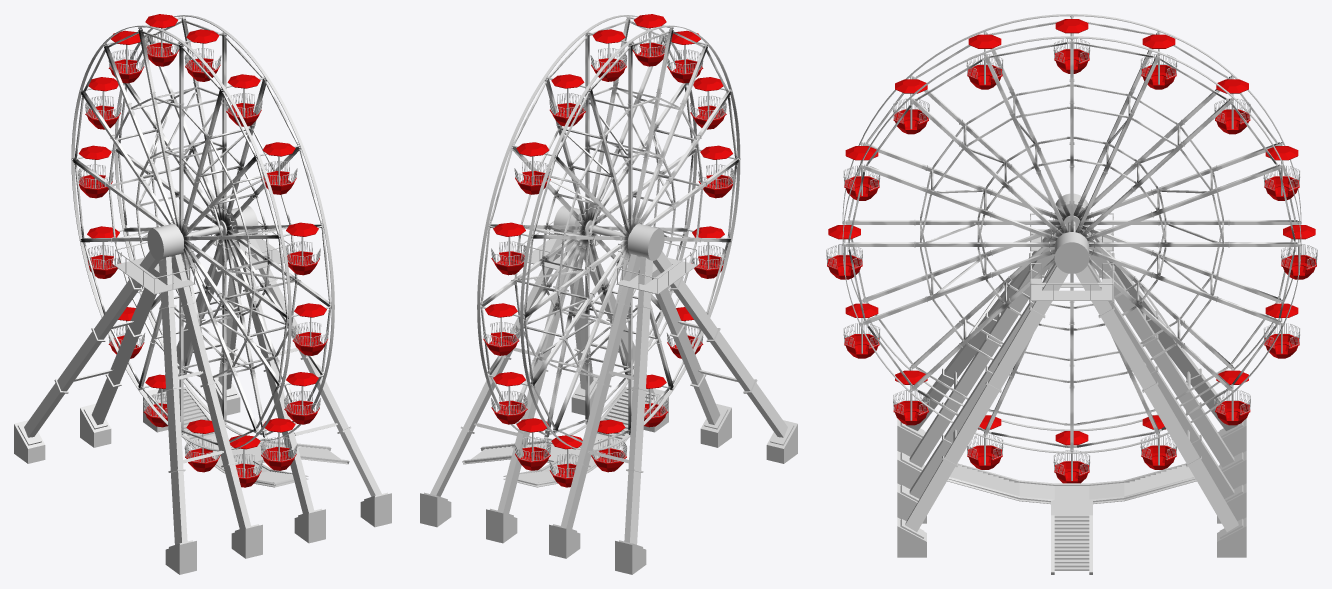
Rendered from Ferris Wheel.dae.
3 renders of one model, left to right at view 1: azimuth 30°, elevation 25°; view 2: azimuth 150°, elevation 25°; view 3: azimuth 270°, elevation 25°, orthographic. The views are drawn at different scales.
Parts seen in each view (by area): view 1: Cube.024, Cube.035, Cube.018, BezierCircle.001, Cube.025, Cube.034, BezierCircle, Cube.005, Cube.013, Cube, Cube.008, Cube.004 (+35 smaller); view 2: Cube.025, Cube.034, Cube.019, BezierCircle.001, Cube.024, Cube.035, BezierCircle, Cube, Cube.008, Cube.015, Cube.002, Cube.006 (+35 smaller); view 3: Plane.116, Cube.021, Cube.020, Cube.019, Cube.018, Cube.011, Cube.010, BezierCircle, Cube.007, Cube.012, Cube.013, Cube.004 (+36 smaller).
Part boxes in pixels (x1=…): Cube.024: x1=159, y1=256, x2=187, y2=544; Cube.035: x1=165, y1=492, x2=391, y2=574; Cube.018: x1=171, y1=254, x2=250, y2=528; BezierCircle.001: x1=71, y1=25, x2=291, y2=451; Cube.025: x1=24, y1=251, x2=158, y2=437; Cube.034: x1=14, y1=374, x2=240, y2=463; BezierCircle: x1=114, y1=15, x2=334, y2=440; Cube.005: x1=183, y1=235, x2=321, y2=433; Cube.013: x1=184, y1=233, x2=330, y2=387; Cube: x1=142, y1=20, x2=227, y2=231; Cube.008: x1=107, y1=16, x2=222, y2=228; Cube.004: x1=84, y1=32, x2=220, y2=225; Cube.025: x1=624, y1=256, x2=652, y2=544; Cube.034: x1=420, y1=492, x2=646, y2=574; Cube.019: x1=561, y1=254, x2=640, y2=528; BezierCircle.001: x1=520, y1=25, x2=740, y2=451; Cube.024: x1=653, y1=251, x2=787, y2=437; Cube.035: x1=571, y1=374, x2=797, y2=463; BezierCircle: x1=477, y1=15, x2=697, y2=440; Cube: x1=548, y1=32, x2=633, y2=231; Cube.008: x1=513, y1=76, x2=630, y2=233; Cube.015: x1=589, y1=16, x2=673, y2=228; Cube.002: x1=480, y1=230, x2=627, y2=380; Cube.006: x1=517, y1=235, x2=628, y2=442; Plane.116: x1=949, y1=465, x2=1194, y2=570; Cube.021: x1=905, y1=266, x2=1068, y2=531; Cube.020: x1=1075, y1=266, x2=1238, y2=531; Cube.019: x1=1080, y1=232, x2=1234, y2=467; Cube.018: x1=909, y1=232, x2=1063, y2=467; Cube.011: x1=860, y1=92, x2=1064, y2=240; Cube.010: x1=1082, y1=225, x2=1283, y2=384; BezierCircle: x1=842, y1=36, x2=1301, y2=453; Cube.007: x1=909, y1=44, x2=1066, y2=236; Cube.012: x1=1079, y1=141, x2=1295, y2=240; Cube.013: x1=848, y1=225, x2=1061, y2=326; Cube.004: x1=1077, y1=75, x2=1276, y2=236.
Size of the model in its own units: 16.93 by 28.1 by 30.44.
3 materials, 1 textured.
